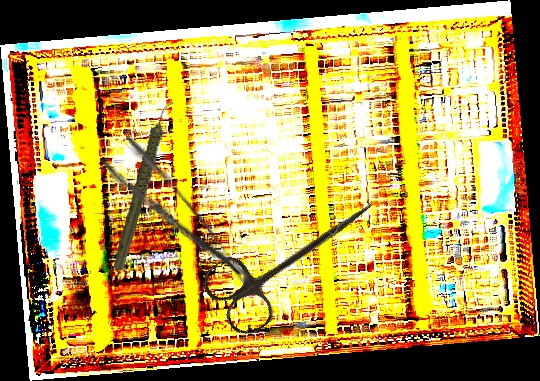Dressing Forceps: (97, 131, 257, 311)
Handpiece: (79, 98, 210, 274)
Iris Scissors: (196, 170, 393, 342)
